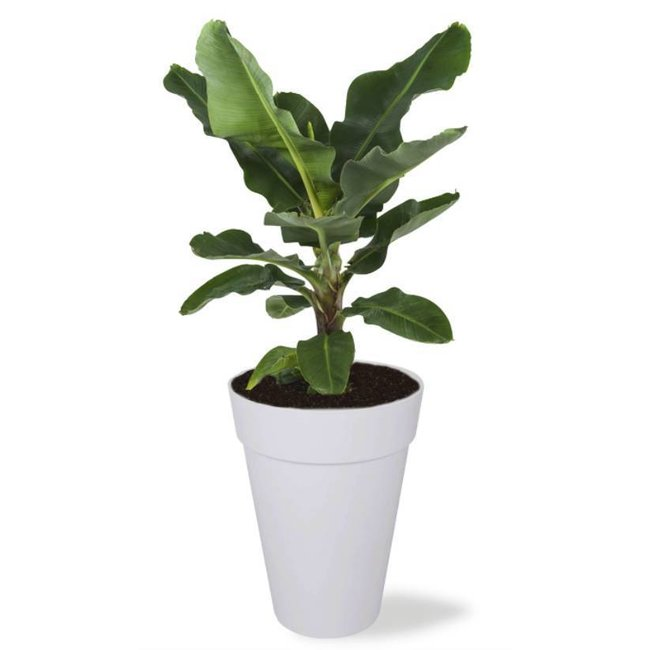plant: (159, 19, 473, 638)
